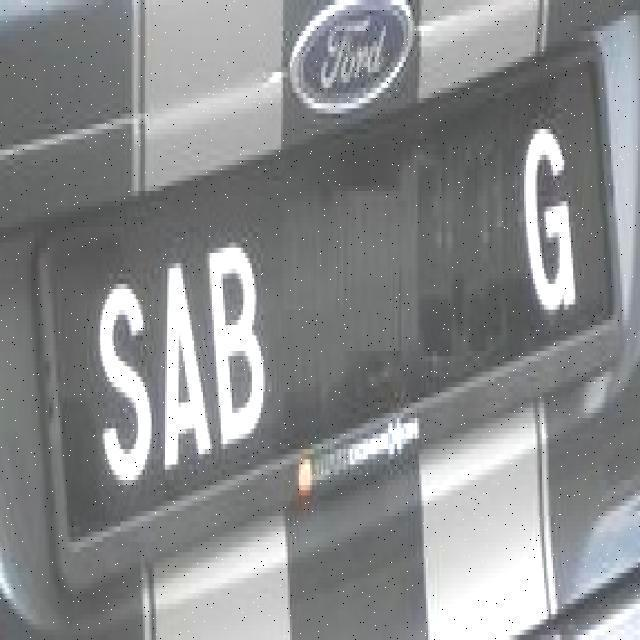LicensePlate: (27, 11, 631, 615)
